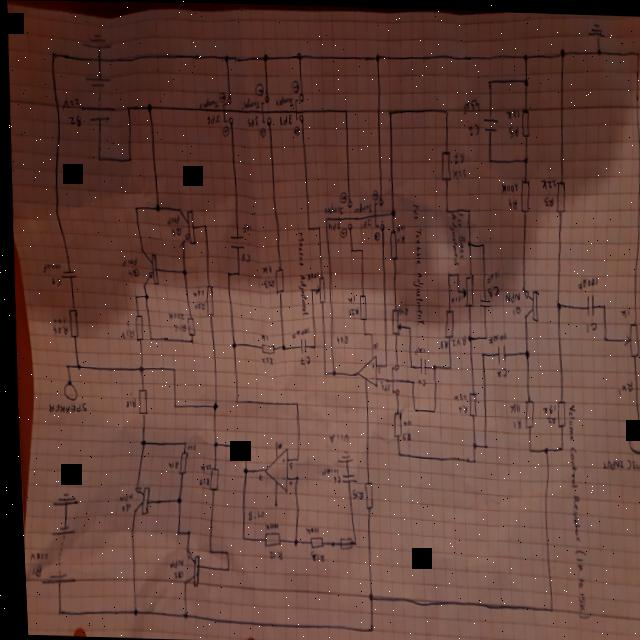capacitor: (581, 290, 592, 316), (480, 114, 496, 131), (226, 234, 242, 248), (492, 342, 502, 362), (58, 268, 74, 280), (336, 471, 352, 483), (294, 337, 303, 353), (415, 355, 423, 373), (475, 296, 488, 306)
crossover: (95, 56, 100, 62)
ground: (81, 31, 111, 50), (46, 490, 74, 507), (586, 20, 605, 36), (332, 448, 348, 461)
junction: (558, 45, 565, 56), (520, 74, 527, 84), (463, 332, 470, 341), (260, 52, 267, 61), (226, 339, 233, 348), (144, 102, 150, 112), (373, 50, 379, 60), (361, 591, 368, 599), (152, 203, 159, 211), (135, 437, 142, 445), (287, 536, 293, 545), (521, 51, 527, 60), (50, 607, 56, 616), (552, 298, 558, 307), (294, 50, 300, 59), (126, 606, 132, 615), (178, 267, 184, 276), (595, 45, 601, 53), (170, 495, 176, 503), (237, 466, 243, 474), (208, 439, 214, 447), (538, 444, 544, 452), (520, 154, 526, 162), (176, 610, 182, 618), (123, 103, 129, 111), (542, 603, 548, 611), (404, 361, 410, 369), (289, 472, 295, 480), (49, 50, 55, 58), (276, 341, 282, 349), (134, 364, 140, 372), (485, 77, 491, 84), (405, 377, 411, 384), (71, 362, 76, 370), (634, 48, 639, 56), (362, 624, 367, 632), (464, 238, 469, 246), (385, 106, 390, 114), (520, 348, 525, 356), (222, 53, 227, 61), (553, 444, 559, 450), (207, 402, 213, 408), (467, 440, 472, 447), (167, 365, 172, 372), (60, 362, 65, 369), (599, 333, 604, 340), (485, 155, 490, 162), (219, 564, 224, 571), (238, 443, 243, 450), (407, 404, 412, 411), (144, 334, 149, 341), (327, 368, 332, 375), (388, 208, 393, 215), (477, 239, 481, 247), (141, 291, 145, 299), (346, 245, 351, 251), (443, 363, 448, 369), (170, 528, 175, 534), (476, 349, 481, 355), (125, 155, 130, 161), (523, 445, 528, 451), (356, 245, 361, 251), (427, 405, 432, 411), (289, 400, 294, 406), (598, 300, 602, 307), (428, 361, 432, 368), (223, 269, 227, 276), (168, 401, 172, 408), (95, 155, 99, 162), (219, 548, 223, 555), (479, 333, 484, 338), (132, 204, 136, 210), (392, 449, 396, 455), (203, 547, 207, 553), (479, 441, 483, 447), (130, 293, 134, 299), (230, 396, 234, 402), (200, 222, 204, 228), (233, 269, 237, 275), (443, 107, 447, 113), (235, 534, 239, 540), (404, 323, 408, 329), (181, 528, 185, 534), (314, 224, 318, 230), (308, 341, 312, 347), (443, 269, 447, 275), (177, 439, 181, 445), (347, 538, 351, 544), (342, 106, 346, 112), (464, 206, 468, 212), (325, 539, 329, 545), (186, 338, 190, 344), (359, 330, 363, 335), (467, 456, 471, 461), (304, 224, 308, 229), (319, 370, 322, 376), (322, 216, 326, 220), (442, 206, 445, 211), (452, 270, 455, 274), (453, 287, 456, 291), (307, 287, 310, 291), (380, 361, 382, 366)
resistor: (618, 319, 638, 356), (456, 269, 471, 305), (516, 176, 529, 211), (310, 273, 324, 304), (552, 178, 565, 211), (201, 282, 213, 317), (437, 148, 450, 179), (353, 290, 366, 321), (438, 306, 451, 337), (357, 477, 369, 510), (519, 397, 531, 428), (387, 409, 400, 437), (132, 385, 144, 415), (64, 308, 76, 338), (257, 528, 275, 546), (385, 226, 395, 258), (387, 306, 398, 334), (518, 106, 528, 136), (551, 398, 562, 425), (272, 265, 282, 293), (203, 466, 214, 491), (172, 450, 183, 474), (463, 389, 473, 415), (131, 313, 140, 341), (182, 313, 193, 335), (302, 534, 318, 547), (256, 342, 271, 353)
source: (34, 522, 74, 587), (77, 73, 115, 122)
switch: (369, 194, 383, 230), (257, 93, 271, 126), (290, 90, 304, 122), (219, 93, 233, 124), (384, 361, 397, 393), (343, 198, 350, 229)
terminal: (268, 501, 273, 506), (270, 439, 272, 443)
text: (559, 402, 585, 619), (406, 197, 425, 324), (292, 230, 306, 317), (598, 455, 638, 470), (445, 212, 456, 265), (42, 400, 82, 414), (453, 212, 463, 258), (460, 95, 478, 113), (574, 274, 595, 288), (612, 377, 629, 394), (350, 199, 369, 214), (197, 96, 217, 110), (287, 324, 306, 338), (273, 94, 293, 107), (323, 430, 344, 442), (23, 549, 44, 561), (320, 201, 341, 213), (59, 96, 78, 109), (203, 111, 220, 125), (241, 96, 258, 110), (39, 260, 57, 273), (448, 165, 465, 178), (498, 180, 516, 192), (484, 330, 502, 342), (482, 268, 497, 282), (117, 255, 134, 267), (242, 507, 259, 519), (48, 323, 65, 335), (538, 176, 554, 188), (447, 332, 463, 344), (65, 113, 79, 126), (24, 564, 37, 578), (304, 548, 319, 560), (163, 309, 181, 319), (276, 112, 291, 124), (505, 122, 517, 137), (163, 212, 178, 224), (500, 290, 516, 301), (483, 283, 496, 296), (244, 113, 257, 126), (331, 331, 345, 343), (117, 327, 131, 339), (262, 547, 276, 559), (316, 465, 332, 475), (346, 486, 358, 499), (465, 121, 477, 134), (163, 557, 177, 568), (169, 322, 183, 333), (451, 149, 462, 163), (288, 77, 298, 92), (581, 318, 593, 330), (120, 395, 132, 407), (124, 265, 136, 277), (167, 225, 179, 237), (396, 428, 407, 441), (504, 195, 515, 208), (503, 107, 517, 117), (449, 390, 463, 400), (302, 269, 316, 279), (355, 217, 369, 227), (537, 401, 551, 411), (113, 491, 127, 501), (48, 313, 62, 323), (299, 524, 314, 533), (47, 274, 58, 286), (259, 276, 271, 287), (343, 304, 355, 315), (259, 520, 273, 529), (190, 299, 202, 309), (447, 292, 459, 302), (504, 400, 516, 410), (325, 219, 337, 229), (256, 354, 269, 363), (256, 124, 265, 137), (115, 501, 125, 512), (295, 354, 306, 364), (394, 304, 405, 314), (162, 458, 173, 468), (507, 302, 518, 312), (616, 306, 627, 316), (541, 193, 551, 204), (257, 263, 268, 273), (392, 231, 403, 241), (189, 286, 200, 296), (409, 344, 421, 353), (194, 462, 206, 471), (290, 123, 299, 135), (326, 473, 336, 483), (193, 475, 203, 485), (492, 365, 502, 375), (507, 416, 517, 426), (453, 401, 463, 411), (237, 251, 247, 261), (392, 220, 402, 230), (343, 293, 353, 303), (397, 416, 408, 425), (539, 413, 551, 421), (253, 82, 261, 94), (336, 188, 344, 200), (217, 89, 224, 102), (413, 375, 422, 385), (167, 568, 177, 577), (376, 382, 386, 390), (181, 442, 191, 450), (435, 337, 443, 347), (220, 125, 228, 135), (337, 225, 344, 236), (256, 332, 265, 340), (282, 460, 289, 470), (369, 187, 375, 198), (370, 230, 377, 239), (368, 340, 374, 348), (364, 373, 371, 379), (272, 440, 277, 447), (373, 364, 377, 372), (366, 362, 371, 368), (253, 473, 257, 480), (276, 475, 281, 480), (276, 457, 280, 463), (284, 478, 287, 485), (375, 378, 379, 382)
transistor: (176, 546, 198, 587), (125, 478, 147, 516), (137, 248, 156, 286), (175, 207, 193, 246), (518, 286, 537, 318)
